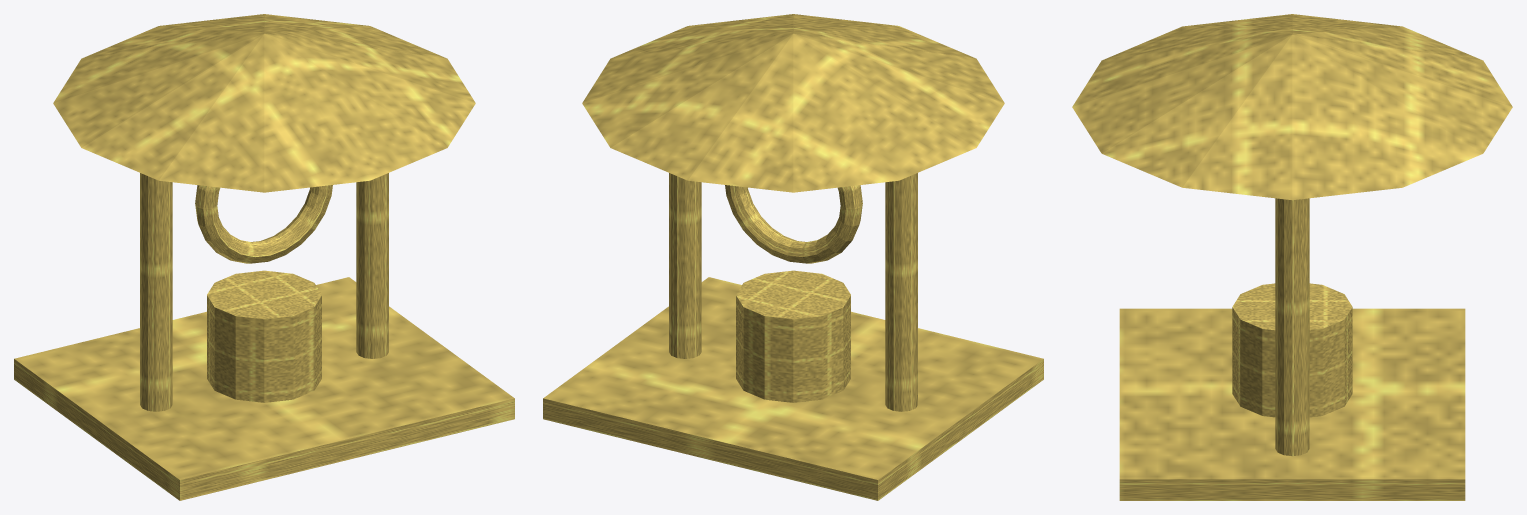
File: dawn_sanctuary_01.glb
3 views of the same model, side by side, from view 1: azimuth 30°, elevation 25°; view 2: azimuth 150°, elevation 25°; view 3: azimuth 270°, elevation 25° (orthographic). The views are drawn at different scales.
Parts seen in each view (by area): view 1: DawnRoof, Foundation, DawnAltar, DawnColumn, DawnColumn.001, SunDisk; view 2: DawnRoof, Foundation, DawnAltar, DawnColumn, DawnColumn.001, SunDisk; view 3: DawnRoof, Foundation, DawnAltar, DawnColumn.001.
Part boxes in pixels (bbox=[...]): DawnRoof: bbox=[53, 14, 475, 192]; Foundation: bbox=[14, 277, 514, 500]; DawnAltar: bbox=[207, 270, 321, 402]; DawnColumn: bbox=[140, 173, 172, 411]; DawnColumn.001: bbox=[356, 173, 388, 358]; SunDisk: bbox=[195, 185, 332, 263]; DawnRoof: bbox=[582, 14, 1004, 192]; Foundation: bbox=[543, 277, 1043, 500]; DawnAltar: bbox=[736, 270, 850, 402]; DawnColumn: bbox=[885, 173, 917, 411]; DawnColumn.001: bbox=[669, 173, 701, 358]; SunDisk: bbox=[725, 185, 862, 263]; DawnRoof: bbox=[1072, 14, 1512, 200]; Foundation: bbox=[1119, 308, 1465, 500]; DawnAltar: bbox=[1232, 283, 1352, 417]; DawnColumn.001: bbox=[1275, 198, 1309, 456].
Bounding box in the file's own units: 4.4 × 4.2 × 4.4.
Materials: 1 (1 with a texture image).
